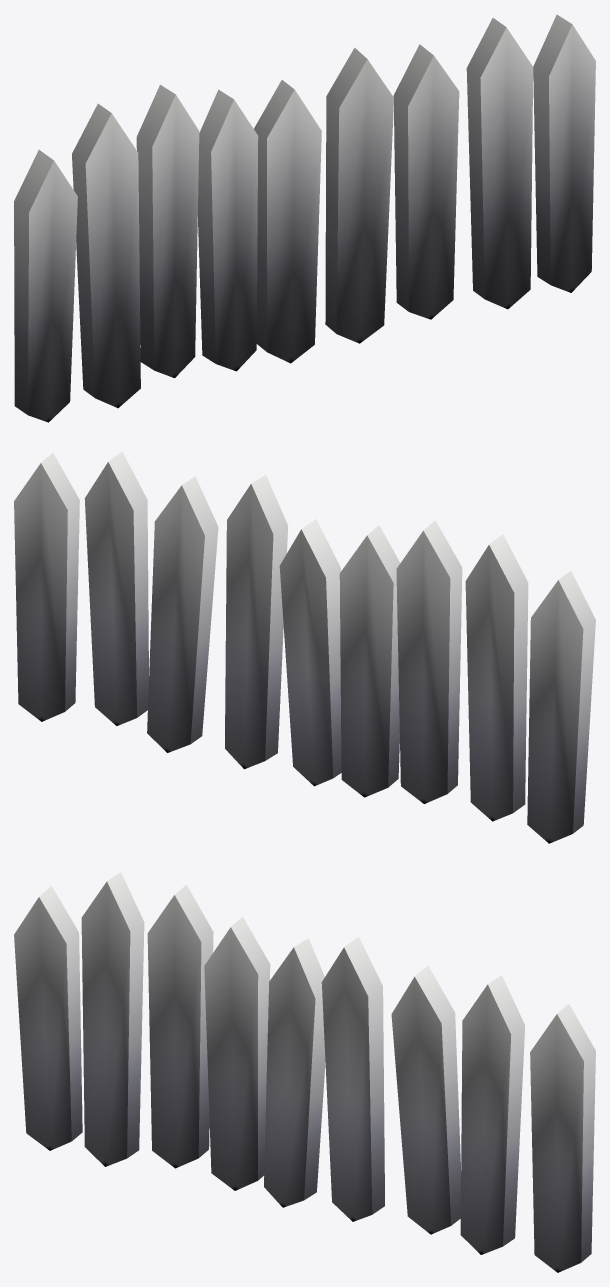
File: white_wood_4x1.DAE
3 renders of one model, top to bottom at view 1: azimuth 30°, elevation 25°; view 2: azimuth 150°, elevation 25°; view 3: azimuth 330°, elevation 25°, orthographic. The views are drawn at different scales.
Visible parts, largest first — view 1: Box008; view 2: Box008; view 3: Box008.
Part boxes in pixels (<box>): Box008: <box>14,14,595,422</box>; Box008: <box>14,451,595,843</box>; Box008: <box>14,872,595,1272</box>.
Bounding box in the file's own units: 4.95 × 2.42 × 0.4071.
